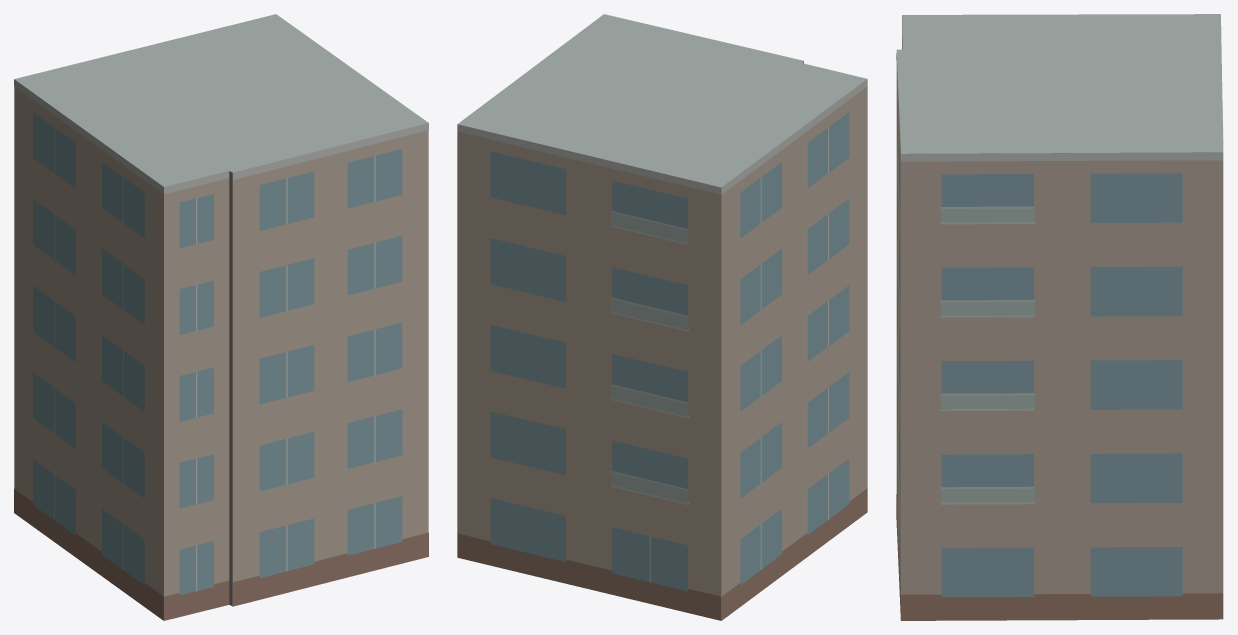
Rendered from survey-upis-32690329.glb.
3 renders of one model, left to right at view 1: azimuth 30°, elevation 25°; view 2: azimuth 150°, elevation 25°; view 3: azimuth 270°, elevation 25°, orthographic. The views are drawn at different scales.
Visible parts, largest first — view 1: survey-upis-32690329.tmp; view 2: survey-upis-32690329.tmp; view 3: survey-upis-32690329.tmp.
Boxes of the visible parts, <box> form: survey-upis-32690329.tmp: <box>14,14,428,620</box>; survey-upis-32690329.tmp: <box>457,14,867,620</box>; survey-upis-32690329.tmp: <box>896,14,1223,620</box>.
Bounding box in the file's own units: 9.31 × 14.45 × 9.18.
